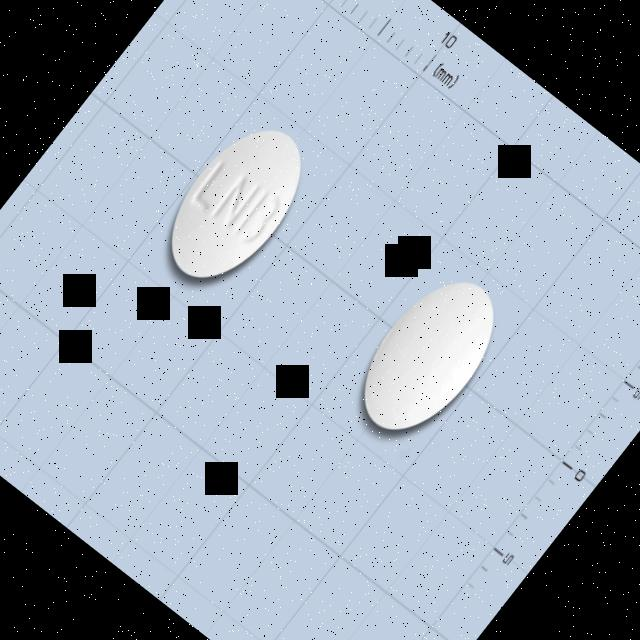Lenovo: (146, 106, 328, 302)
